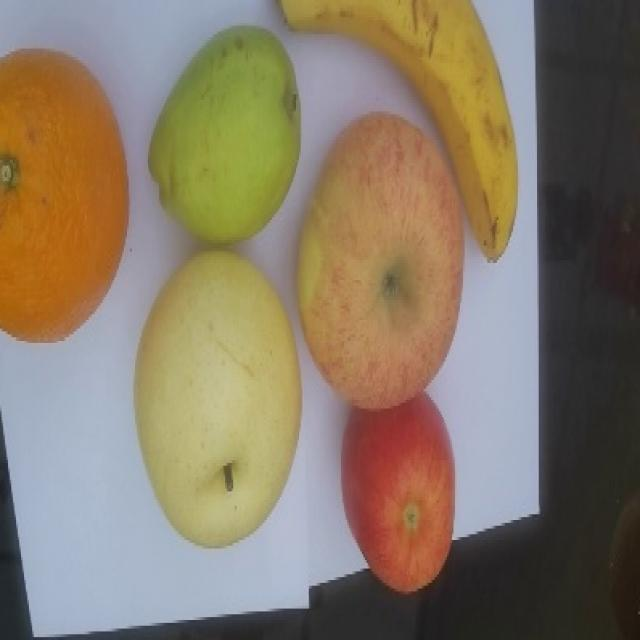Apple: (304, 109, 468, 411), (334, 389, 457, 596)
Banana: (277, 0, 519, 266)
Orange: (0, 51, 134, 346)
